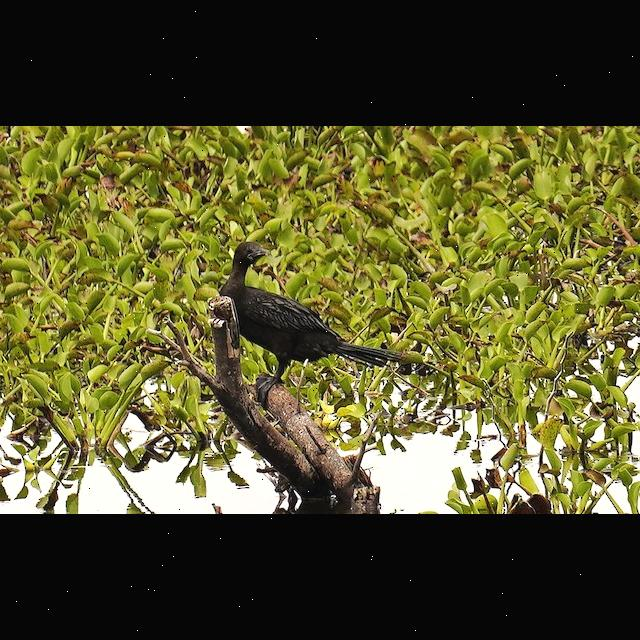cormorant: (217, 236, 425, 406)
